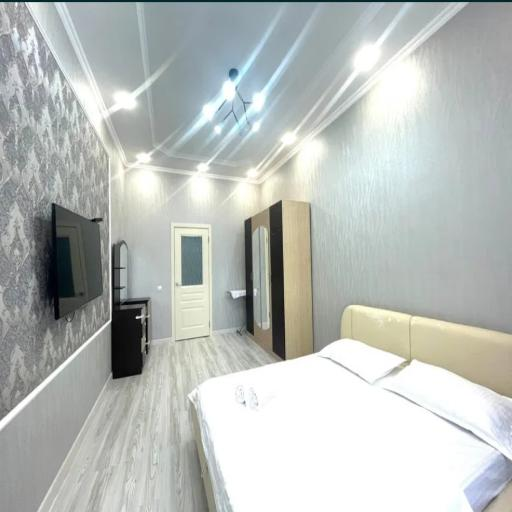bus: (244, 200, 313, 361)
child: (172, 224, 212, 341)
person: (188, 305, 512, 512)
